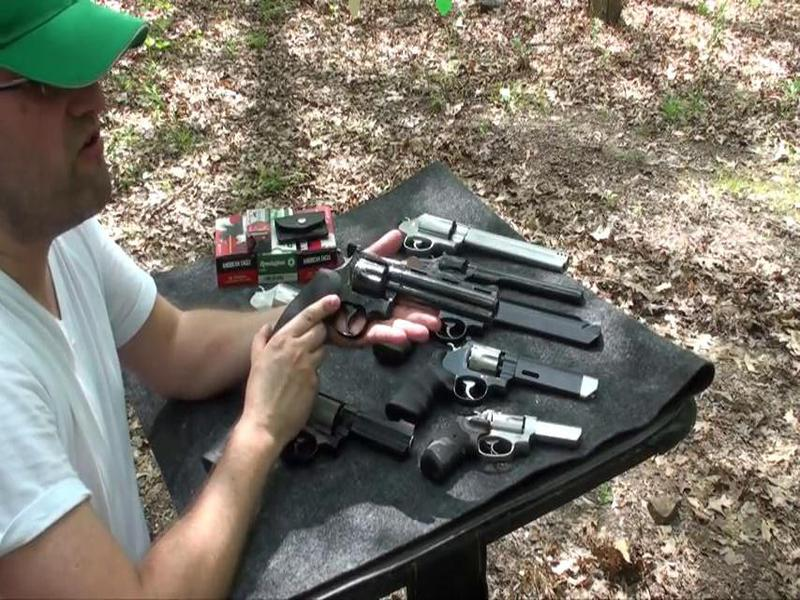Revolver: (255, 244, 505, 384)
